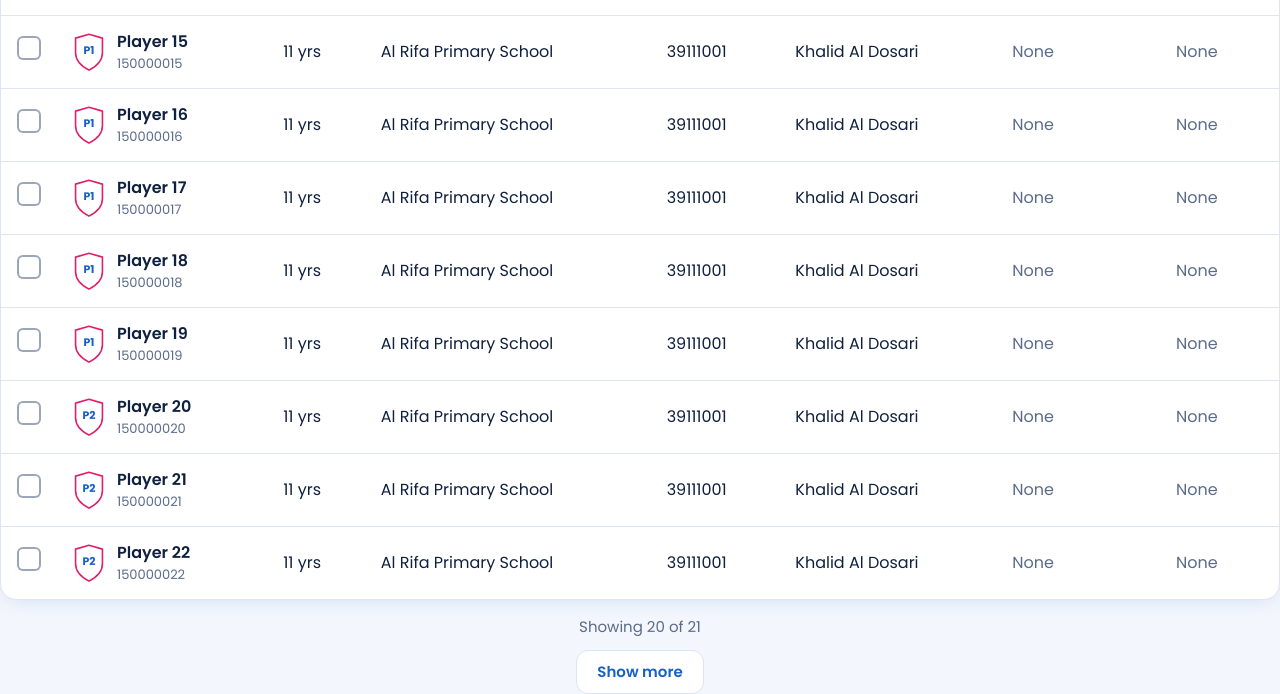
Test case: PlayersPage › as an admin › loads the next page on "Show more"
(page scrolled)
Expected: the text "Showing 20 of 21" is shown, [579,616,701,638]
Click the button "Show more": (640, 672) [576,650,704,693]
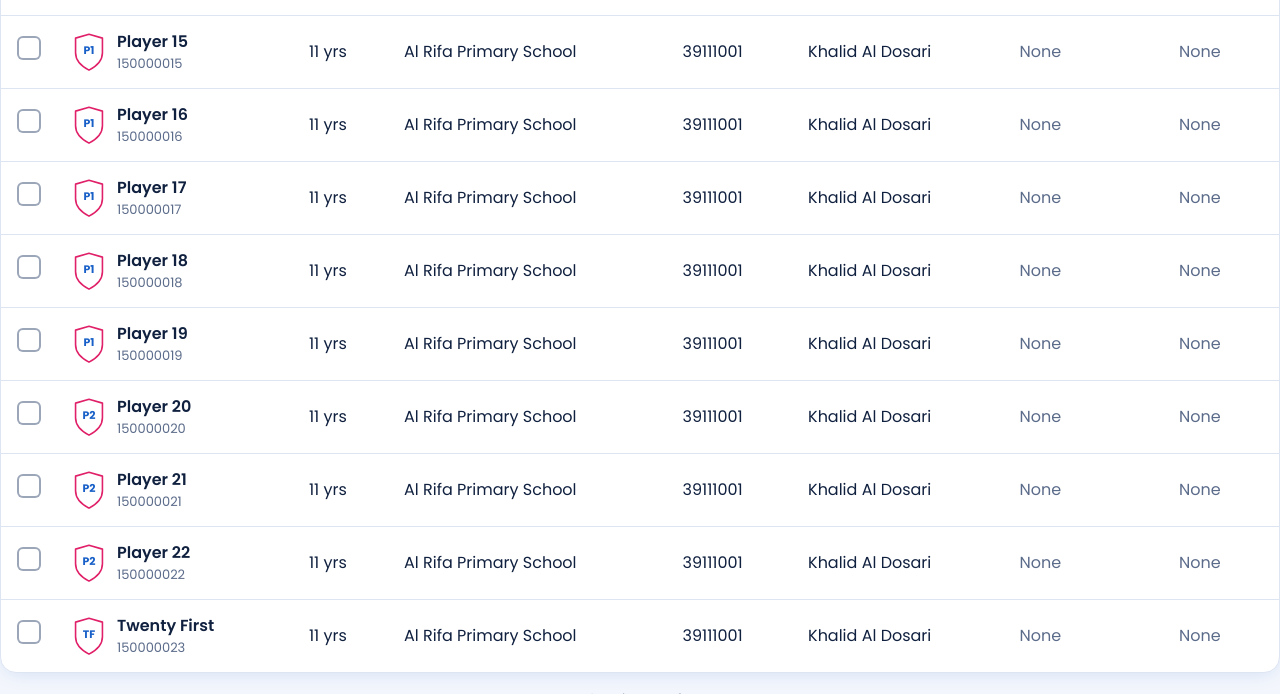
Result: the text "Twenty First" is shown at [117,614,214,638]
Result: the button "Show more" is gone
